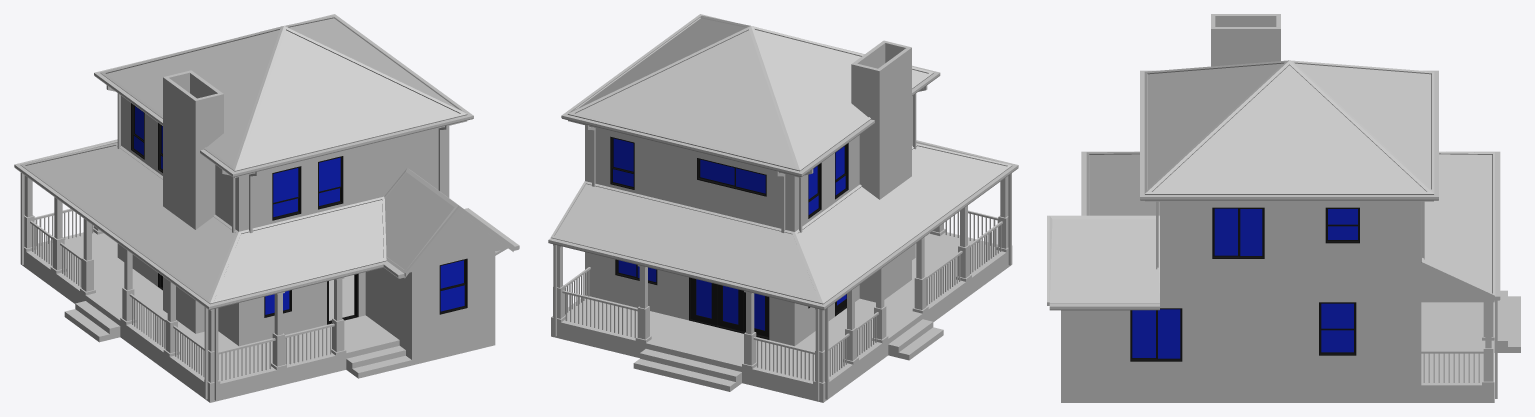
The model's file is house.obj.
3 renders of one model, left to right at view 1: azimuth 30°, elevation 25°; view 2: azimuth 150°, elevation 25°; view 3: azimuth 270°, elevation 25°, orthographic. The views are drawn at different scales.
Visible parts, largest first — view 1: 247_House_15_obj; view 2: 247_House_15_obj; view 3: 247_House_15_obj.
Part boxes in pixels (box(x1,y1,x2,y2)): 247_House_15_obj: box(14, 14, 519, 402); 247_House_15_obj: box(548, 14, 1018, 402); 247_House_15_obj: box(1047, 14, 1520, 402).
Size of the model in its own units: 14.3 by 11.66 by 17.42.
